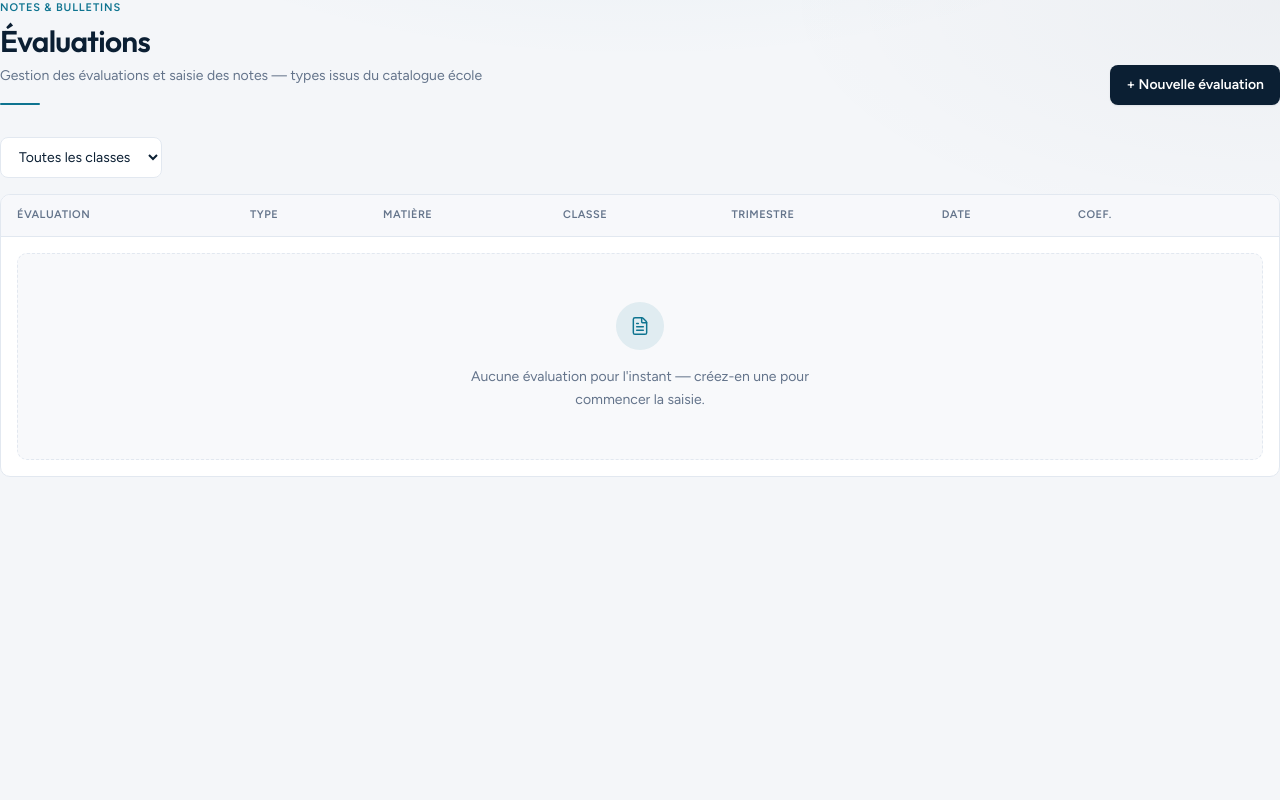
it: EvaluationList types catalogue (PR14) › charge le catalogue evaluation-types et propose composition
Click the button "+ Nouvelle évaluation". click: (1195, 85)
box: [1110,65,1279,105]
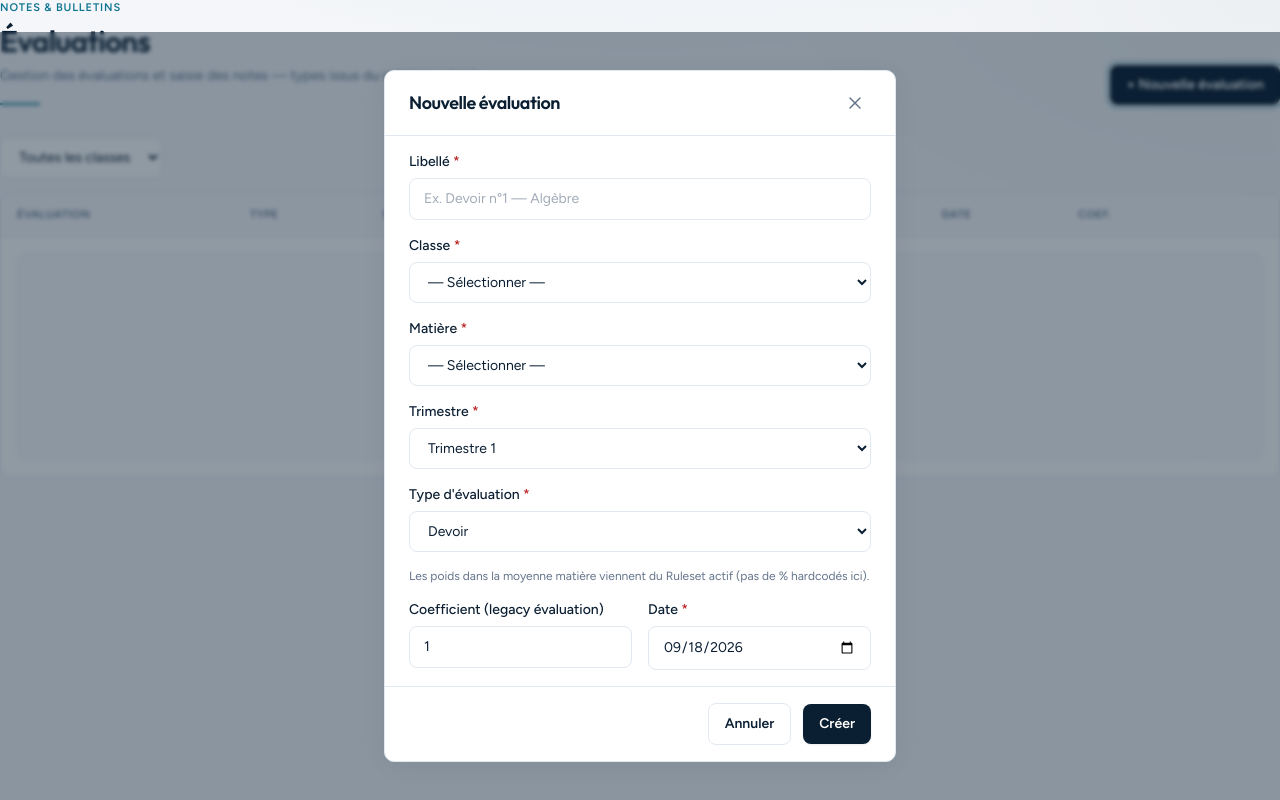
expect the dropdown labelled "Type d'évaluation *" is shown: met, box [409,511,871,552]
